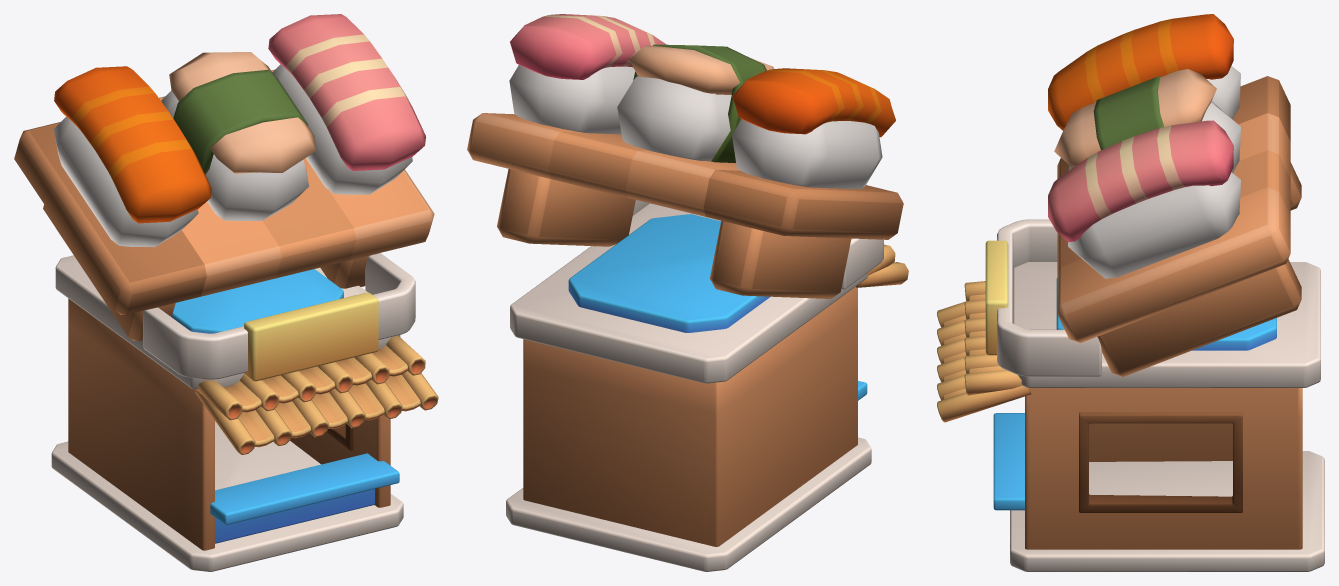
Rendered from lpb_store_sushi.fbx.
The picture shows the model from 3 angles, left to right: view 1: azimuth 30°, elevation 25°; view 2: azimuth 150°, elevation 25°; view 3: azimuth 270°, elevation 25°; orthographic projection. The views are drawn at different scales.
Parts seen in each view (by area): view 1: Store.008; view 2: Store.008; view 3: Store.008.
Boxes of the visible parts, x1,y1,x2,y2 form: Store.008: [14, 14, 438, 571]; Store.008: [467, 14, 908, 571]; Store.008: [937, 14, 1324, 571].
Size of the model in its own units: 472 by 625 by 497.
